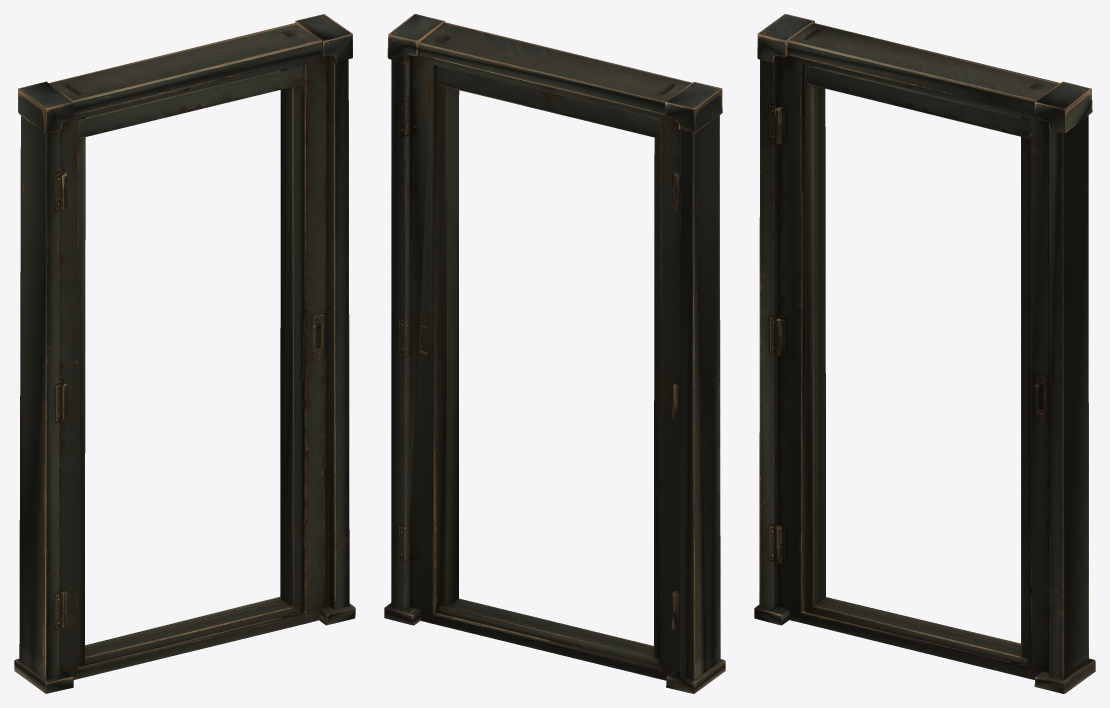
Rendered from door5  jamb.fbx.
The picture shows the model from 3 angles, left to right: view 1: azimuth 30°, elevation 25°; view 2: azimuth 150°, elevation 25°; view 3: azimuth 330°, elevation 25°; orthographic projection.
Visible parts, largest first — view 1: mesh_node; view 2: mesh_node; view 3: mesh_node.
Boxes of the visible parts, left/top/right/bottom form: mesh_node: left=14, top=14, right=355, bottom=693; mesh_node: left=384, top=14, right=725, bottom=693; mesh_node: left=754, top=14, right=1095, bottom=693.
Bounding box in the file's own units: 55.66 × 100 × 10.06.
1 material, 1 textured.
